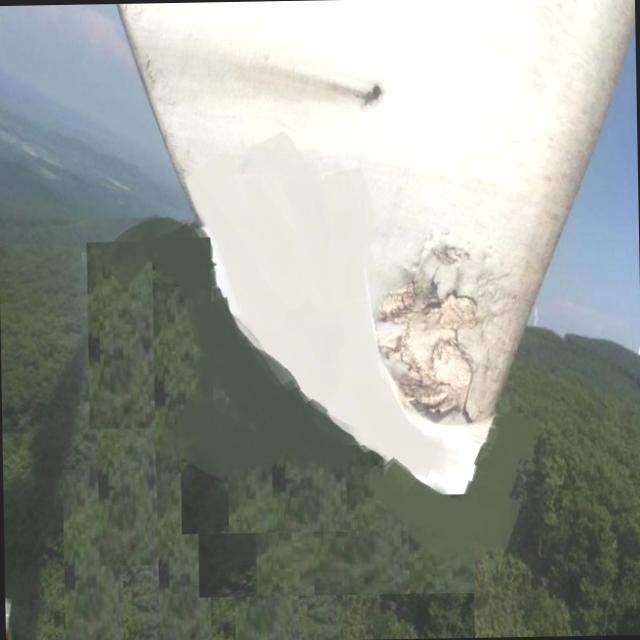corrosion: (364, 285, 488, 430)
crack: (308, 78, 384, 112)
